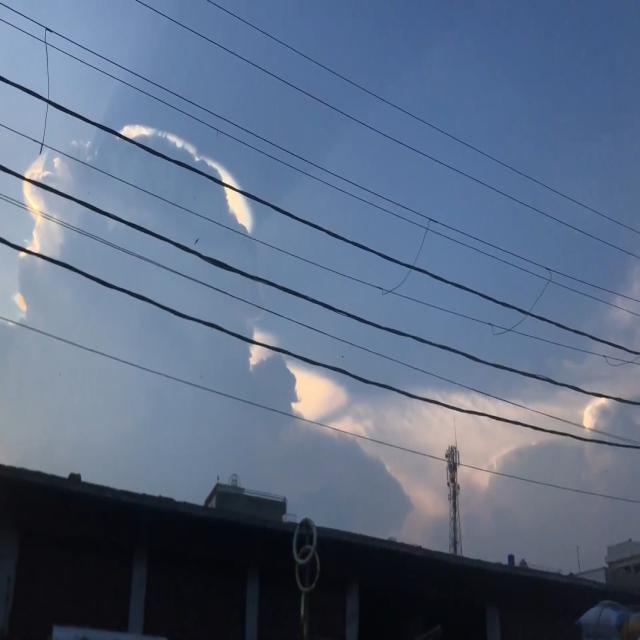bird: (192, 235, 200, 247)
